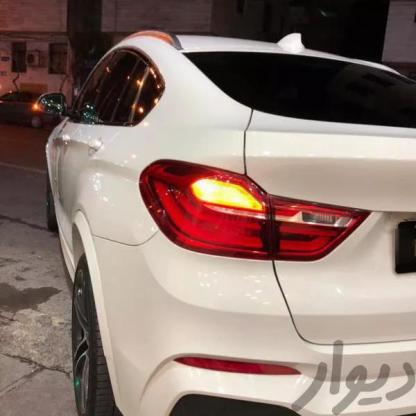Car: (38, 23, 416, 416), (0, 84, 67, 136)
